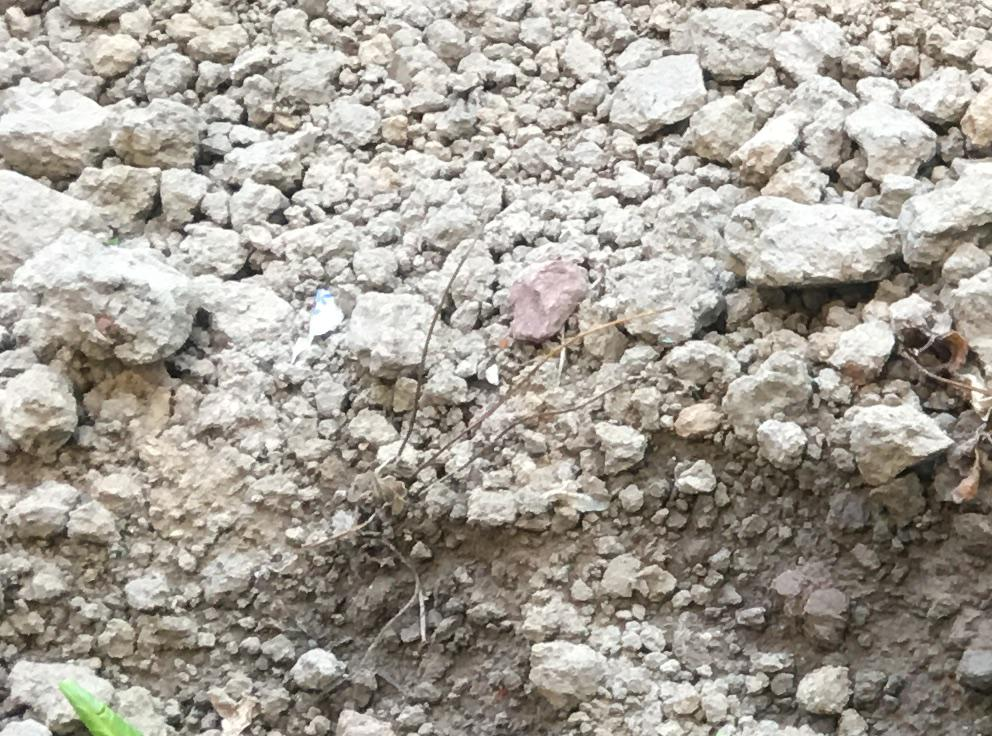block: (15, 235, 192, 365), (726, 198, 896, 287), (607, 245, 723, 348), (606, 54, 710, 142), (843, 99, 936, 192), (854, 396, 950, 486), (1, 105, 114, 178), (111, 96, 206, 169)
